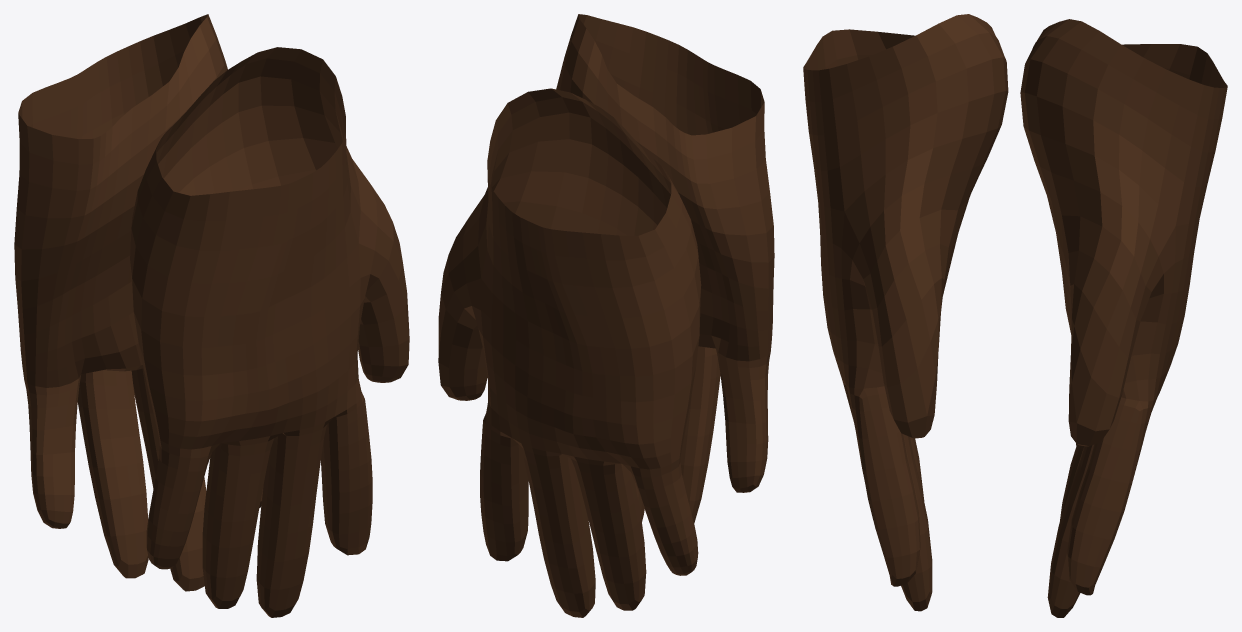
The model's file is guantiinteri.fbx.
The picture shows the model from 3 angles, left to right: view 1: azimuth 30°, elevation 25°; view 2: azimuth 150°, elevation 25°; view 3: azimuth 270°, elevation 25°; orthographic projection. The views are drawn at different scales.
Visible parts, largest first — view 1: Plane; view 2: Plane; view 3: Plane.
Part boxes in pixels (bbox=[...]): Plane: bbox=[14, 14, 409, 617]; Plane: bbox=[438, 14, 774, 617]; Plane: bbox=[803, 14, 1227, 617].
Size of the model in its own units: 14.7 by 27.5 by 17.09.
